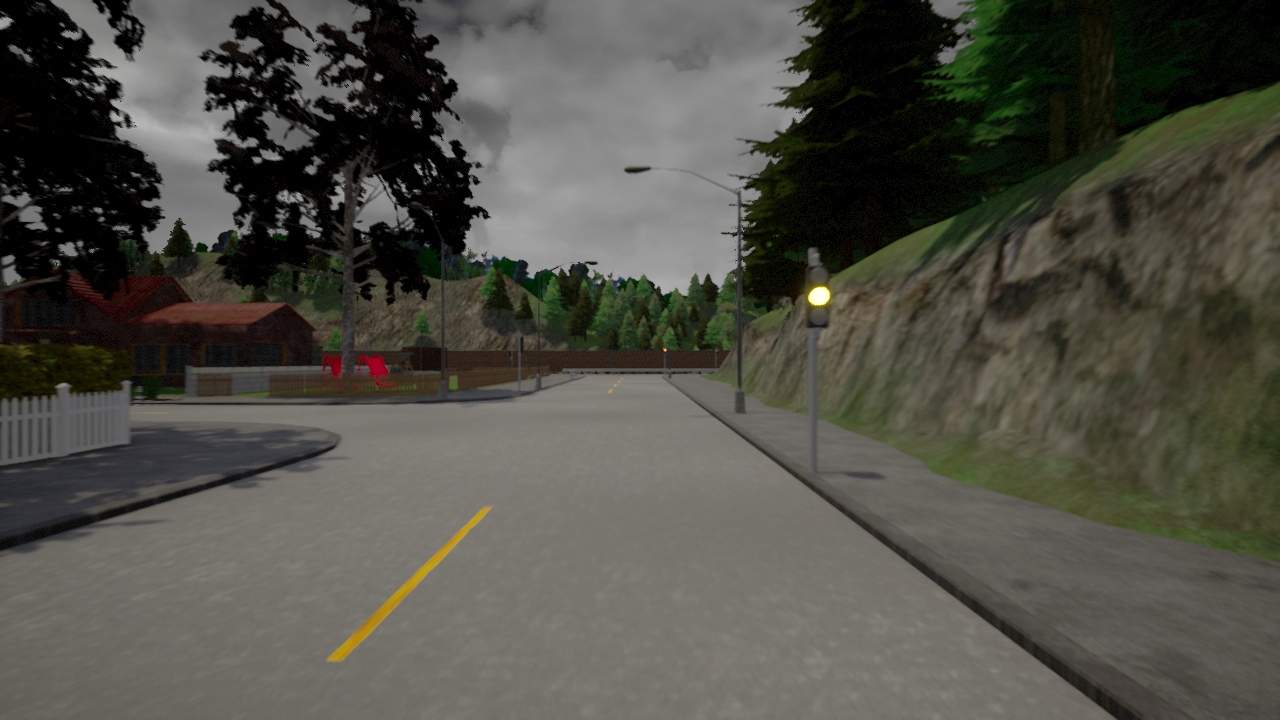yellow: (805, 262, 831, 331)
